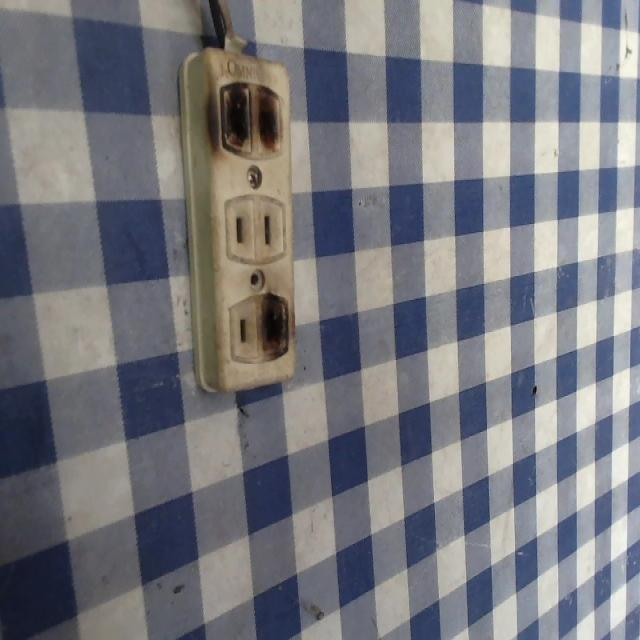-: (212, 72, 287, 163), (257, 288, 303, 364)
